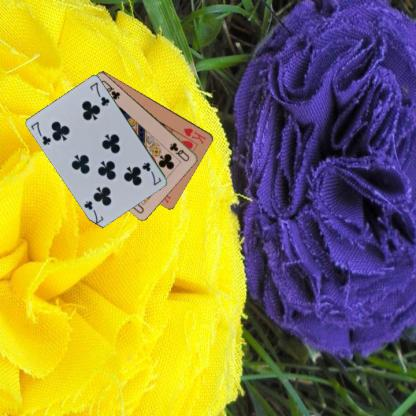7c: (28, 119, 53, 146), (140, 160, 162, 186)
Kh: (181, 126, 207, 146)
Qc: (167, 140, 191, 162)
